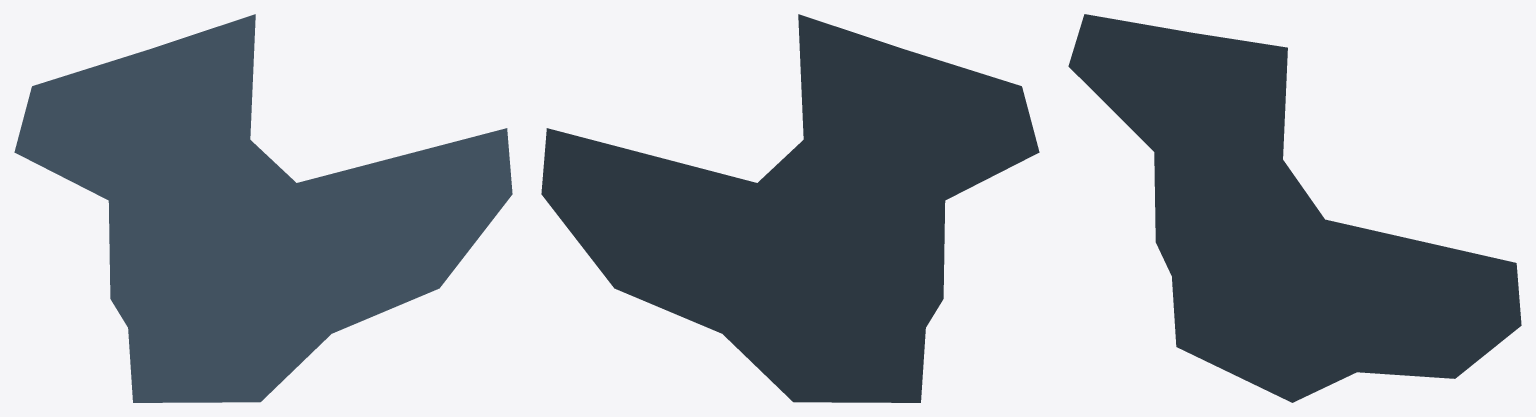
File: DivingWallExteriorH.glb
The picture shows the model from 3 angles, left to right: view 1: azimuth 30°, elevation 25°; view 2: azimuth 150°, elevation 25°; view 3: azimuth 330°, elevation 25°; orthographic projection. The views are drawn at different scales.
Parts seen in each view (by area): view 1: DivingWallExteriorH; view 2: DivingWallExteriorH; view 3: DivingWallExteriorH.
Part boxes in pixels (x1,y1,x2,y2): DivingWallExteriorH: (14,14,512,402); DivingWallExteriorH: (541,14,1039,402); DivingWallExteriorH: (1068,14,1521,402).
Bounding box in the file's own units: 22.54 × 16.84 × 0.
